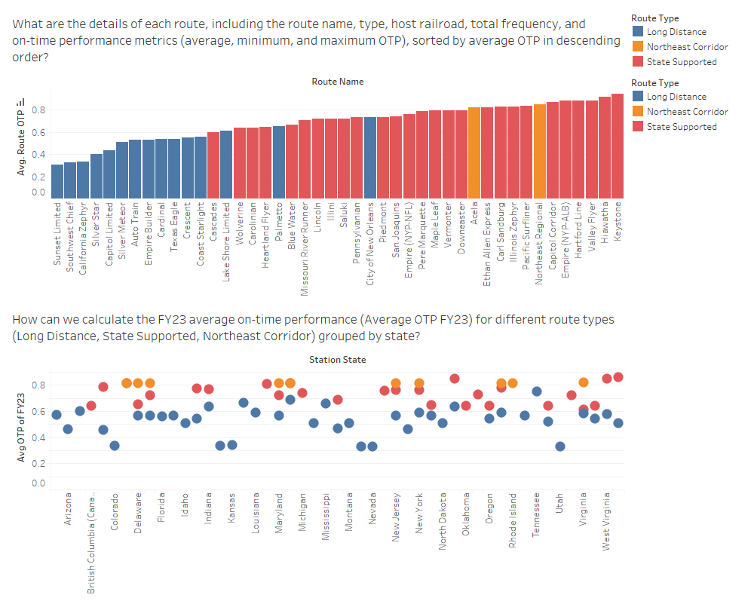

The dashboard page shown, as its layout file describes it:
{"tool":"tableau","page":{"name":"Amtrak Route","canvas":[1000,800],"ordinal":1},"visuals":[{"type":"worksheet","title":"Route Details","mark":"Bar","rows":["routeOTP"],"cols":["routeName"],"box":[8,8,824,392]},{"type":"legend","title":"Route Details","param":"[federated.07qf71c0obnvob10lkpon05cxk8n (copy 2)].[none:routeType:nk]","box":[832,8,160,86]},{"type":"legend","title":"Route Type Per State","param":"[federated.07qf71c0obnvob10lkpon05cxk8n].[none:routeType:nk]","box":[832,94,160,86]},{"type":"worksheet","title":"Route Type Per State","mark":"Circle","rows":["Calculation_622341194884161539"],"cols":["stationState"],"box":[8,400,824,392]}]}

Visuals, with their boxes in screenshot pixels (x1, y1, x2, y2), scaled from the page's 1000x800 canvas onto the 754x604 screenshot:
"Route Details" worksheet (Bar marks): box(6, 6, 627, 302)
"Route Details" legend: box(627, 6, 748, 71)
"Route Type Per State" legend: box(627, 71, 748, 136)
"Route Type Per State" worksheet (Circle marks): box(6, 302, 627, 598)
